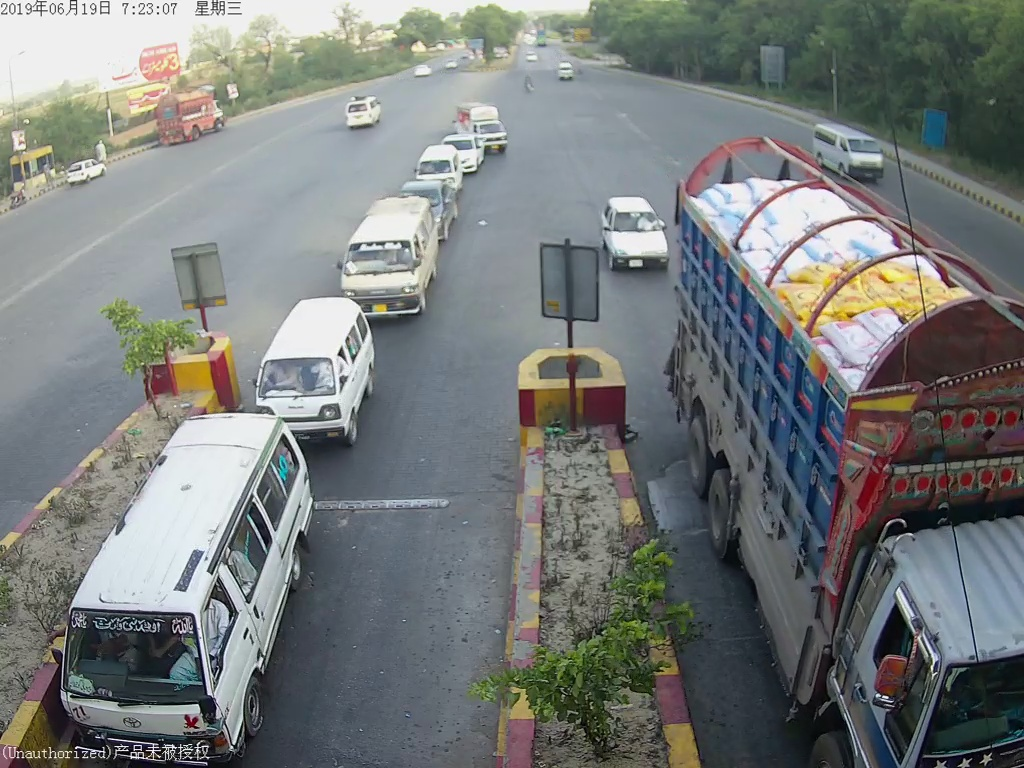Cat-1: (245, 297, 383, 428), (591, 197, 665, 267)
Cat-2: (53, 412, 324, 764), (333, 205, 436, 319)
Cat-4: (672, 148, 1024, 761)
